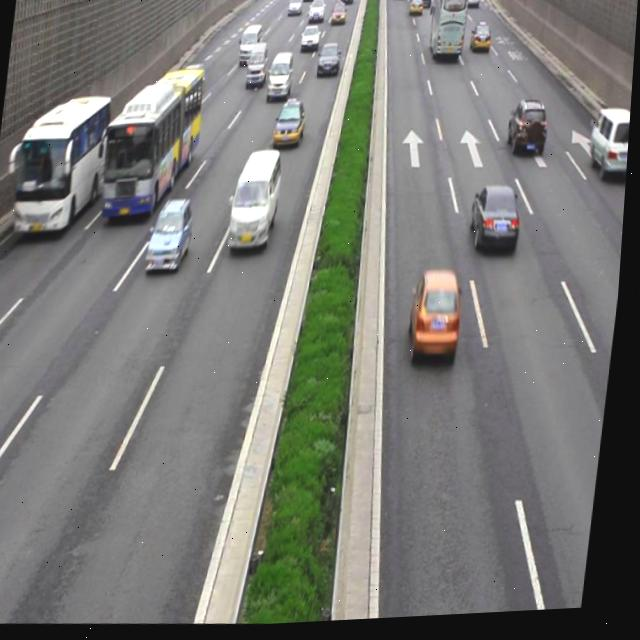car: (408, 270, 469, 373), (469, 187, 525, 261), (149, 200, 198, 276), (505, 103, 550, 165), (274, 100, 309, 151)
truck: (228, 149, 287, 260), (588, 113, 633, 187), (266, 54, 297, 103), (246, 45, 270, 92)
van: (98, 61, 209, 226), (12, 95, 116, 238)
